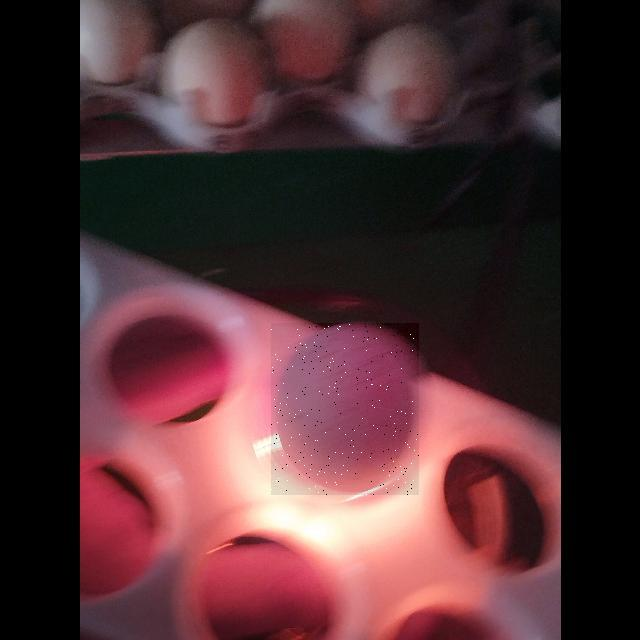Fertile: (271, 323, 419, 495)
